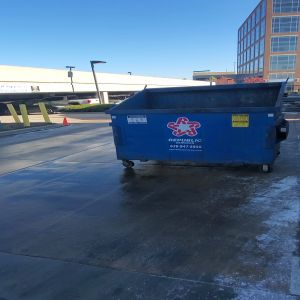Dumpster: (105, 83, 293, 176)
